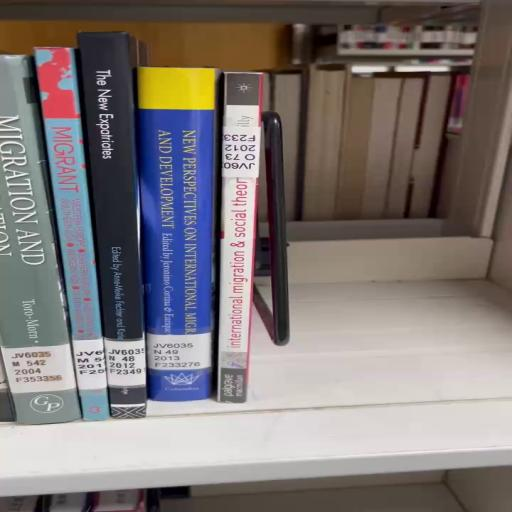reverse: (218, 73, 290, 405)
